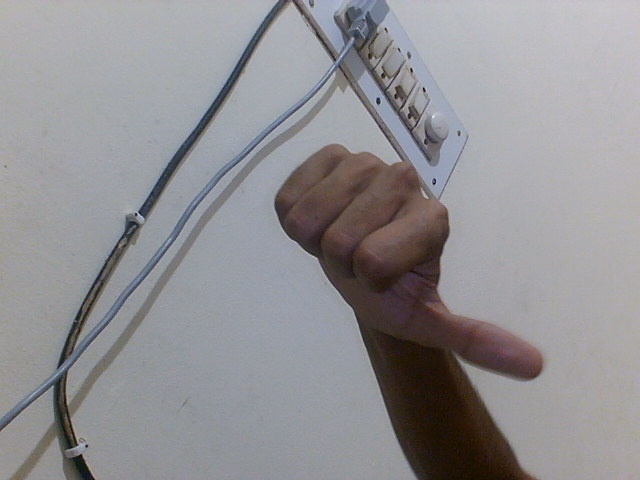hand: (272, 137, 548, 388)
